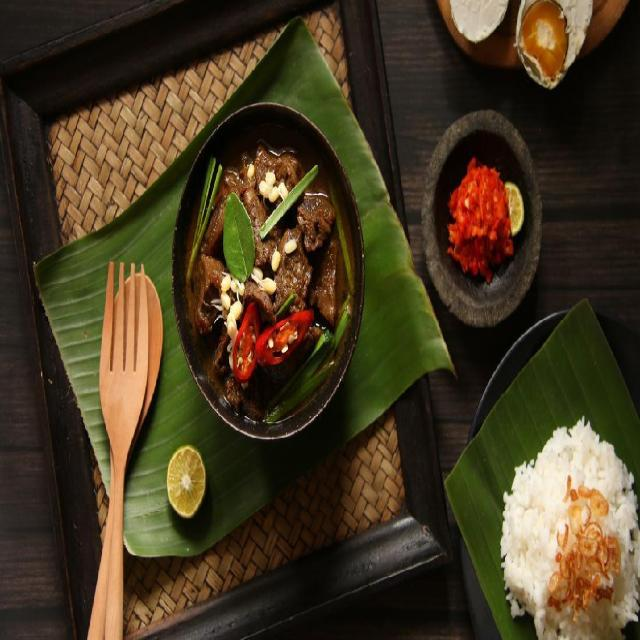Rawon: (184, 134, 346, 426)
